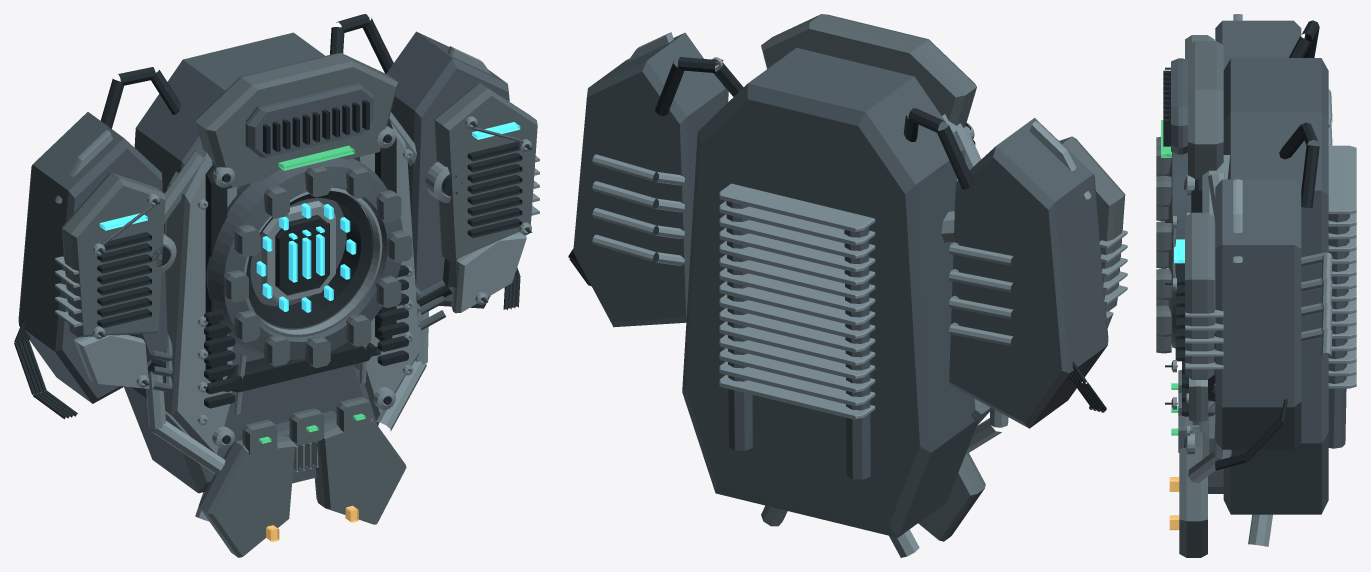
The model's file is cloud-infrastructure-guardian.glb.
The picture shows the model from 3 angles, left to right: view 1: azimuth 30°, elevation 25°; view 2: azimuth 150°, elevation 25°; view 3: azimuth 270°, elevation 25°; orthographic projection. The views are drawn at different scales.
Parts seen in each view (by area): view 1: body_Gunmetal, body_Brushed steel, body_Recess, left_sled_Gunmetal, lower_armor_Ceramic graphite, body_Ceramic graphite, right_sled_Gunmetal, top_armor_Ceramic graphite, left_sled_Ceramic graphite, right_sled_Ceramic graphite, left_sled_Recess, left_sled_Brushed steel (+6 smaller); view 2: body_Gunmetal, left_sled_Gunmetal, body_Brushed steel, right_sled_Gunmetal, top_armor_Ceramic graphite, left_sled_Brushed steel, right_sled_Brushed steel, body_Recess, left_sled_Ceramic graphite, lower_armor_Ceramic graphite; view 3: body_Gunmetal, right_sled_Gunmetal, body_Brushed steel, right_sled_Brushed steel, top_armor_Ceramic graphite, right_sled_Ceramic graphite, body_Ceramic graphite, body_Recess, left_sled_Gunmetal, lower_armor_Ceramic graphite, right_sled_Recess, top_armor_Gunmetal (+4 smaller).
Part boxes in pixels (left/top/right/bottom): body_Gunmetal: left=124, top=32, right=402, bottom=493; body_Brushed steel: left=146, top=112, right=428, bottom=521; body_Recess: left=100, top=14, right=457, bottom=444; left_sled_Gunmetal: left=18, top=112, right=172, bottom=403; lower_armor_Ceramic graphite: left=199, top=417, right=406, bottom=557; body_Ceramic graphite: left=223, top=164, right=412, bottom=456; right_sled_Gunmetal: left=386, top=31, right=532, bottom=329; top_armor_Ceramic graphite: left=195, top=53, right=398, bottom=188; left_sled_Ceramic graphite: left=62, top=172, right=165, bottom=337; right_sled_Ceramic graphite: left=434, top=83, right=537, bottom=261; left_sled_Recess: left=14, top=199, right=170, bottom=419; left_sled_Brushed steel: left=55, top=130, right=176, bottom=388; body_Gunmetal: left=682, top=47, right=979, bottom=537; left_sled_Gunmetal: left=949, top=118, right=1108, bottom=428; body_Brushed steel: left=719, top=114, right=1008, bottom=557; right_sled_Gunmetal: left=573, top=32, right=726, bottom=327; top_armor_Ceramic graphite: left=761, top=14, right=976, bottom=127; left_sled_Brushed steel: left=949, top=121, right=1127, bottom=346; right_sled_Brushed steel: left=592, top=32, right=722, bottom=265; body_Recess: left=655, top=57, right=975, bottom=189; left_sled_Ceramic graphite: left=1059, top=136, right=1125, bottom=311; lower_armor_Ceramic graphite: left=918, top=453, right=985, bottom=541; body_Gunmetal: left=1168, top=58, right=1349, bottom=514; right_sled_Gunmetal: left=1172, top=179, right=1301, bottom=449; body_Brushed steel: left=1185, top=145, right=1356, bottom=546; right_sled_Brushed steel: left=1171, top=179, right=1332, bottom=422; top_armor_Ceramic graphite: left=1188, top=41, right=1223, bottom=196; right_sled_Ceramic graphite: left=1185, top=212, right=1214, bottom=379; body_Ceramic graphite: left=1156, top=136, right=1192, bottom=452; body_Recess: left=1182, top=20, right=1319, bottom=447; left_sled_Gunmetal: left=1215, top=20, right=1301, bottom=70; lower_armor_Ceramic graphite: left=1179, top=421, right=1207, bottom=557; right_sled_Recess: left=1165, top=221, right=1287, bottom=470; top_armor_Gunmetal: left=1171, top=58, right=1187, bottom=154.
Bounding box in the file's own units: 4.67 × 4.25 × 1.68.
